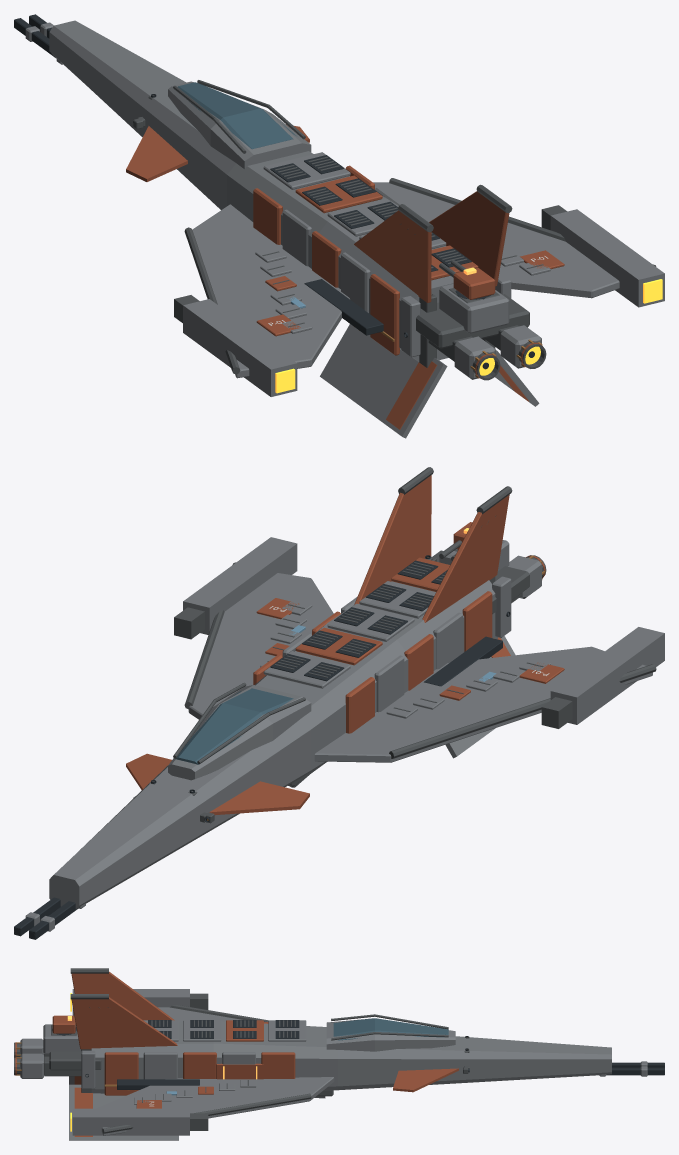
The model's file is mars_interceptor.glb.
The picture shows the model from 3 angles, top to bottom: view 1: azimuth 30°, elevation 25°; view 2: azimuth 150°, elevation 25°; view 3: azimuth 270°, elevation 25°; orthographic projection. The views are drawn at different scales.
Visible parts, largest first — view 1: FleetHull, mesh_pd_yaw_0; view 2: FleetHull; view 3: FleetHull, mesh_pd_yaw_0.
Part boxes in pixels (box(x1,y1,x2,y2)): FleetHull: box(14, 14, 664, 438); mesh_pd_yaw_0: box(453, 268, 495, 299); FleetHull: box(14, 467, 664, 939); FleetHull: box(14, 968, 664, 1140); mesh_pd_yaw_0: box(52, 1015, 75, 1033).
Size of the model in its own units: 14.22 by 6.62 by 28.28.
